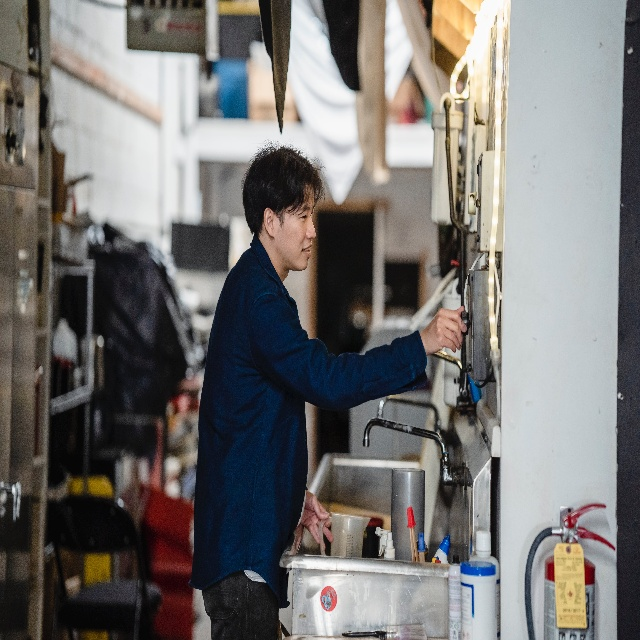Sin_guantes: (425, 305, 468, 352), (304, 491, 335, 548)
